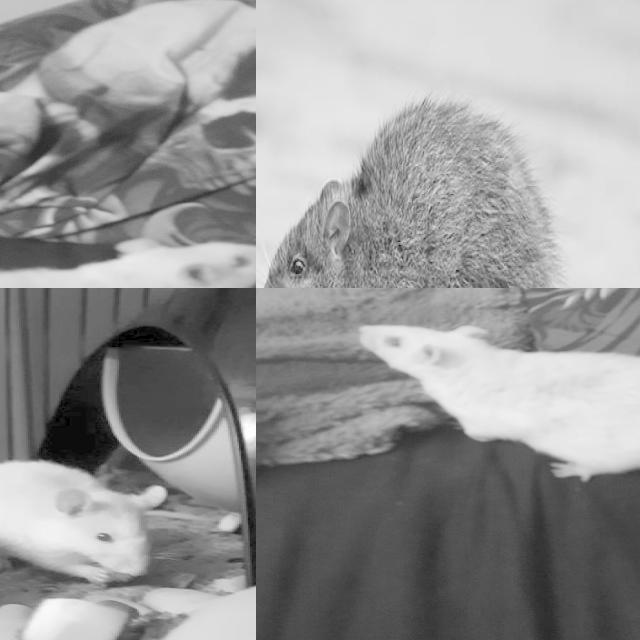rat: (260, 72, 537, 288), (361, 323, 640, 479), (0, 462, 173, 583)
